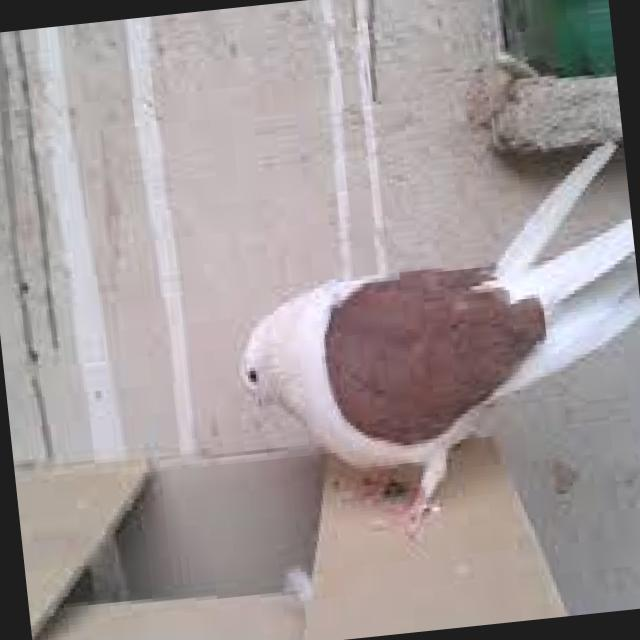bird: (212, 136, 640, 551)
